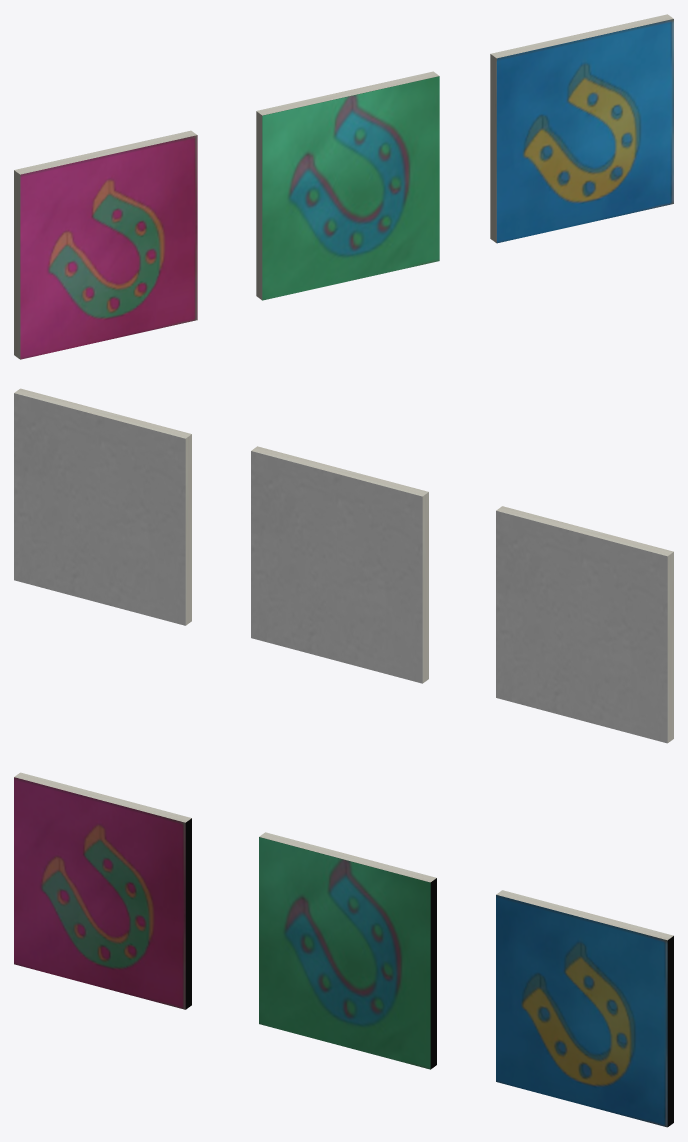
Rendered from cuadros.obj.
3 views of the same model, one above another, from view 1: azimuth 30°, elevation 25°; view 2: azimuth 150°, elevation 25°; view 3: azimuth 330°, elevation 25° (orthographic).
Parts seen in each view (by area): view 1: casa2:pasted__pasted__pasted__pCube1pasted__pasted__group85paste, casa3:pasted__pasted__pasted__pCube1pasted__pasted__group85paste, casa1:pasted__pasted__pasted__pCube1pasted__pasted__group85paste; view 2: casa2:pasted__pasted__pasted__pCube1pasted__pasted__group85paste, casa3:pasted__pasted__pasted__pCube1pasted__pasted__group85paste, casa1:pasted__pasted__pasted__pCube1pasted__pasted__group85paste; view 3: casa2:pasted__pasted__pasted__pCube1pasted__pasted__group85paste, casa3:pasted__pasted__pasted__pCube1pasted__pasted__group85paste, casa1:pasted__pasted__pasted__pCube1pasted__pasted__group85paste.
Part boxes in pixels (bbox=[...]): casa2:pasted__pasted__pasted__pCube1pasted__pasted__group85paste: bbox=[14, 130, 197, 359]; casa3:pasted__pasted__pasted__pCube1pasted__pasted__group85paste: bbox=[490, 14, 673, 243]; casa1:pasted__pasted__pasted__pCube1pasted__pasted__group85paste: bbox=[256, 71, 439, 300]; casa2:pasted__pasted__pasted__pCube1pasted__pasted__group85paste: bbox=[496, 506, 673, 743]; casa3:pasted__pasted__pasted__pCube1pasted__pasted__group85paste: bbox=[14, 388, 191, 625]; casa1:pasted__pasted__pasted__pCube1pasted__pasted__group85paste: bbox=[251, 446, 428, 683]; casa2:pasted__pasted__pasted__pCube1pasted__pasted__group85paste: bbox=[14, 772, 191, 1009]; casa3:pasted__pasted__pasted__pCube1pasted__pasted__group85paste: bbox=[496, 890, 673, 1127]; casa1:pasted__pasted__pasted__pCube1pasted__pasted__group85paste: bbox=[259, 832, 436, 1069].
Size of the model in its own units: 7.37 by 2.01 by 0.198.
